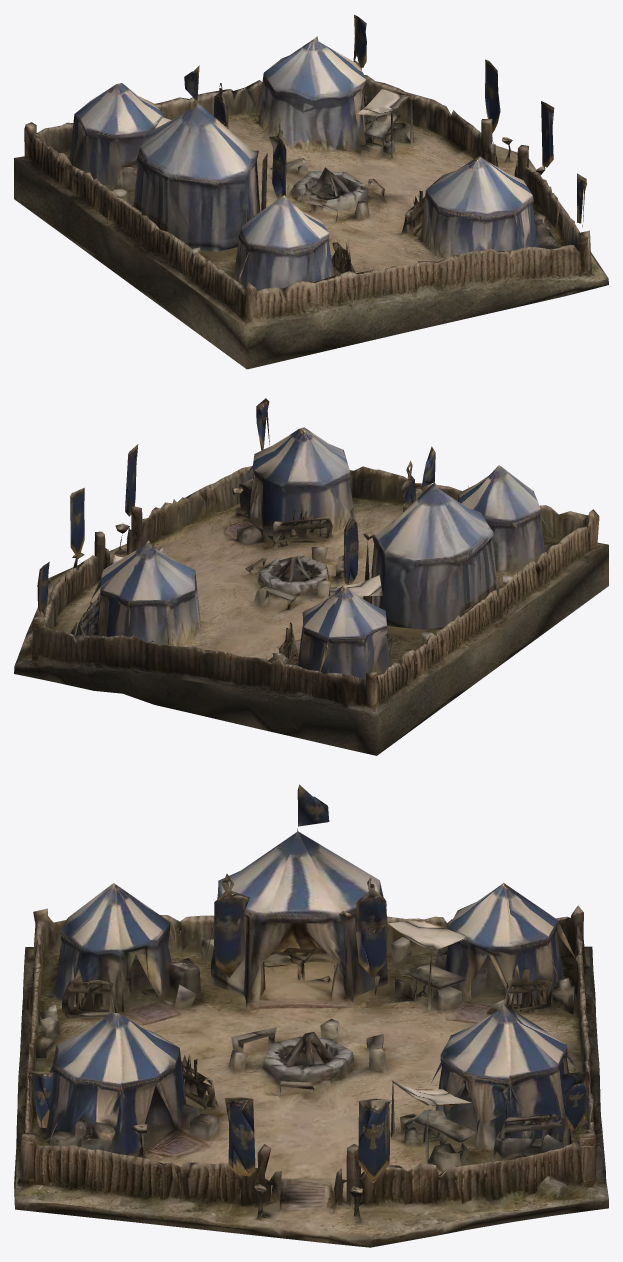
The model's file is camp_0.glb.
The picture shows the model from 3 angles, top to bottom: view 1: azimuth 30°, elevation 25°; view 2: azimuth 150°, elevation 25°; view 3: azimuth 270°, elevation 25°; orthographic projection. The views are drawn at different scales.
Parts seen in each view (by area): view 1: tripo_node_6810021c-9563-4f0f-8fec-6fdfd8147ce3; view 2: tripo_node_6810021c-9563-4f0f-8fec-6fdfd8147ce3; view 3: tripo_node_6810021c-9563-4f0f-8fec-6fdfd8147ce3.
Part boxes in pixels (x1,y1,x2,y2): tripo_node_6810021c-9563-4f0f-8fec-6fdfd8147ce3: [14, 14, 608, 369]; tripo_node_6810021c-9563-4f0f-8fec-6fdfd8147ce3: [14, 398, 608, 755]; tripo_node_6810021c-9563-4f0f-8fec-6fdfd8147ce3: [14, 784, 608, 1247].
Size of the model in its own units: 0.9788 by 0.4575 by 0.9805.
1 material, 1 textured.
